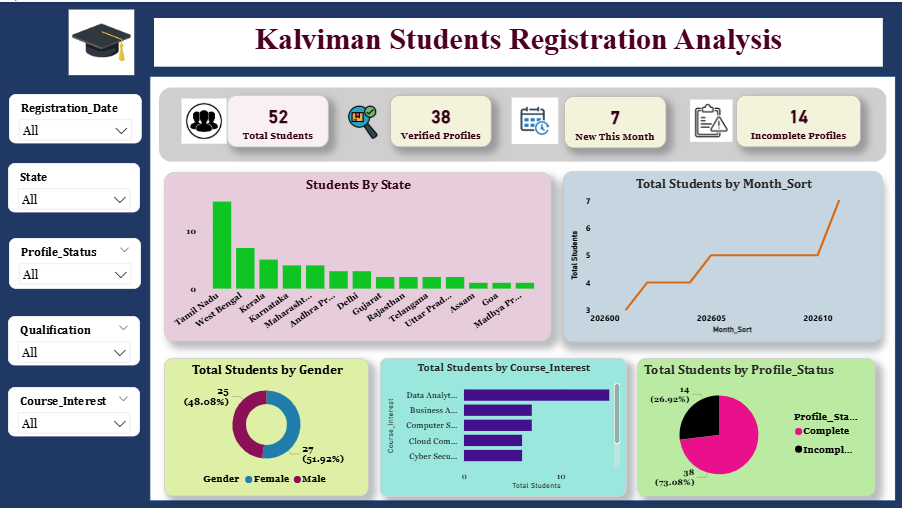

What the dashboard file says about the page in this screenshot:
{"tool":"powerbi","page":{"name":"Page 1","canvas":[1280,720],"ordinal":0},"visuals":[{"type":"card","title":"Total Students","fields":{"Values":["Student_Registrations.Total Students"]},"box":[323.2,131.6,144.4,74.4],"z":0},{"type":"slicer","fields":{"Values":["Student_Registrations.Registration_Date"]},"box":[13.7,129.9,188,70.1],"z":1000},{"type":"slicer","fields":{"Values":["Student_Registrations.State"]},"box":[12.9,228.8,187.4,70.1],"z":2000},{"type":"slicer","fields":{"Values":["Student_Registrations.Qualification"]},"box":[12.9,444.8,187.4,70.1],"z":3000},{"type":"slicer","fields":{"Values":["Student_Registrations.Profile_Status"]},"box":[14.3,334.7,187.4,71.5],"z":4000},{"type":"lineChart","fields":{"Category":["Student_Registrations.Month_Sort"],"Y":["Student_Registrations.Total Students"]},"box":[799.5,238.8,453.4,241.7],"z":5000},{"type":"image","box":[90.7,5.7,109.1,103.5],"z":6000},{"type":"donutChart","fields":{"Category":["Student_Registrations.Gender"],"Y":["Student_Registrations.Total Students"]},"box":[234.5,504.8,290.3,195.9],"z":7000},{"type":"clusteredColumnChart","title":"Students By State","fields":{"Category":["Student_Registrations.State"],"Y":["CountNonNull(Student_Registrations.Student_ID)"]},"box":[234.5,240.3,549.2,240.3],"z":8000},{"type":"barChart","fields":{"Y":["Student_Registrations.Total Students"],"Category":["Student_Registrations.Course_Interest"]},"box":[540.6,504.8,349,195.9],"z":9000},{"type":"pieChart","fields":{"Category":["Student_Registrations.Profile_Status"],"Y":["Student_Registrations.Total Students"]},"box":[903.9,504.8,337.5,195.9],"z":10000},{"type":"image","box":[246,131.6,88.7,74.4],"z":11000},{"type":"textbox","box":[219.7,22.7,1033.2,69.4],"z":12000},{"type":"image","box":[479.1,140.2,74.4,60.1],"z":13000},{"type":"card","title":"Total Students","fields":{"Values":["Student_Registrations.New This Month"]},"box":[800.8,133.2,144.6,73.7],"z":14000},{"type":"image","box":[717.9,130.1,81.5,75.8],"z":15000},{"type":"card","title":"Total Students","fields":{"Values":["Student_Registrations.Verified Profiles"]},"box":[553.5,131.6,144.4,74.4],"z":16000},{"type":"card","title":"Total Students","fields":{"Values":["Student_Registrations.Incomplete Profiles"]},"box":[1044,131.6,177.3,74.4],"z":17000},{"type":"image","box":[959.6,133,100.1,70.1],"z":18000},{"type":"slicer","fields":{"Values":["Student_Registrations.Course_Interest"]},"box":[12.9,546.3,187.4,70.1],"z":19000}]}

Visuals, with their boxes in screenshot pixels (x1, y1, x2, y2), scaled from the page's 1280x720 canvas onto the 902x508 screenshot:
"Total Students" card: BBox(228, 93, 330, 145)
slicer - Student_Registrations.Registration_Date: BBox(10, 92, 142, 141)
slicer - Student_Registrations.State: BBox(9, 161, 141, 211)
slicer - Student_Registrations.Qualification: BBox(9, 314, 141, 363)
slicer - Student_Registrations.Profile_Status: BBox(10, 236, 142, 287)
lineChart - Student_Registrations.Month_Sort x Student_Registrations.Total Students: BBox(563, 168, 883, 339)
image: BBox(64, 4, 141, 77)
donutChart - Student_Registrations.Gender x Student_Registrations.Total Students: BBox(165, 356, 370, 494)
"Students By State" clusteredColumnChart: BBox(165, 170, 552, 339)
barChart - Student_Registrations.Total Students x Student_Registrations.Course_Interest: BBox(381, 356, 627, 494)
pieChart - Student_Registrations.Profile_Status x Student_Registrations.Total Students: BBox(637, 356, 875, 494)
image: BBox(173, 93, 236, 145)
textbox: BBox(155, 16, 883, 65)
image: BBox(338, 99, 390, 141)
"Total Students" card: BBox(564, 94, 666, 146)
image: BBox(506, 92, 563, 145)
"Total Students" card: BBox(390, 93, 492, 145)
"Total Students" card: BBox(736, 93, 861, 145)
image: BBox(676, 94, 747, 143)
slicer - Student_Registrations.Course_Interest: BBox(9, 385, 141, 435)
